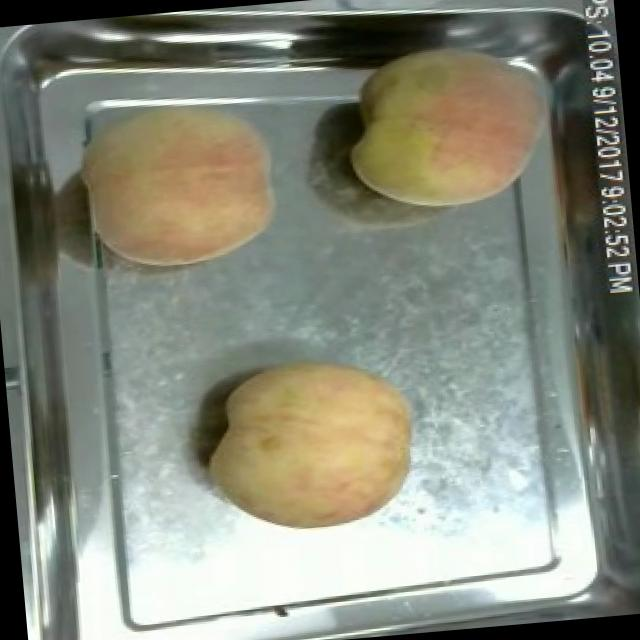Fruit: (63, 75, 295, 282), (197, 342, 430, 548), (333, 27, 562, 225)
